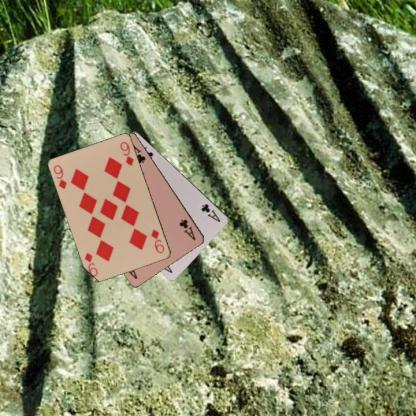9d: (148, 226, 166, 255), (51, 162, 68, 191)
Ac: (199, 201, 222, 224), (177, 217, 197, 242)
